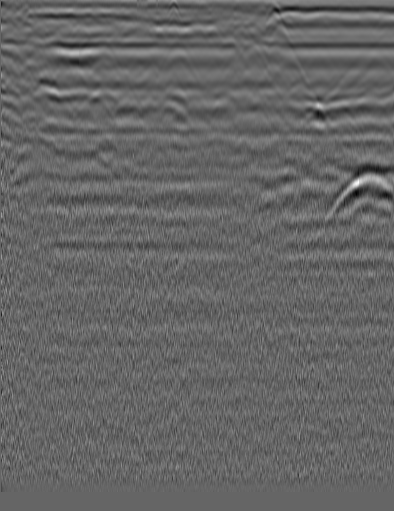우수: (353, 56, 388, 87)
